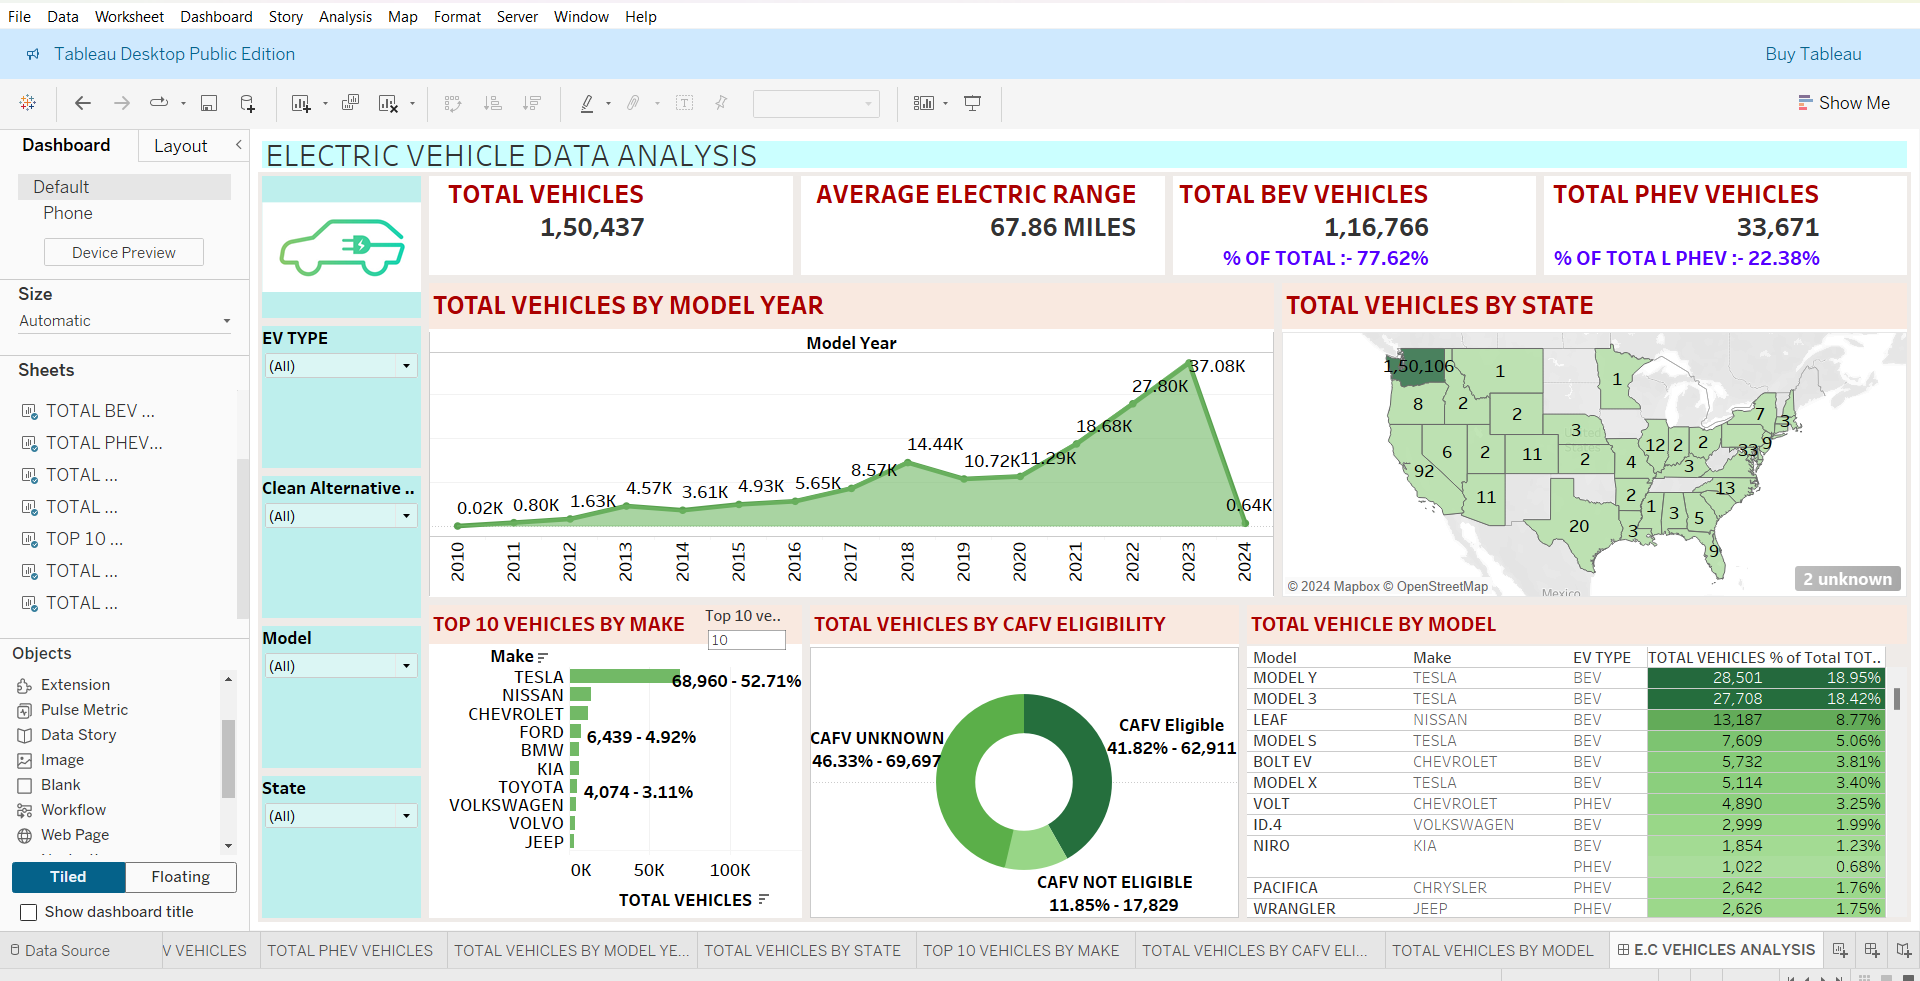

Layout of this report page (visuals, bound fields, positions):
{"tool":"tableau","page":{"name":"E.C VEHICLES ANALYSIS","canvas":[1000,1000],"units":"permille","ordinal":0},"visuals":[{"type":"title","box":[4.8,10,990.3,43.7]},{"type":"image","param":"Image/240_F_524935557_JjYRXDktED3P5YlSnkAqikICzypWonqY.jpg","box":[4.8,53.7,100.2,187.3]},{"type":"worksheet","title":"TOTAL NO OF VEHICLES","mark":"Automatic","box":[105,53.7,222.7,137.3]},{"type":"worksheet","title":"AVERAGE ELECTRIC RANGE","mark":"Automatic","box":[327.7,53.7,222.7,137.3]},{"type":"worksheet","title":"TOTAL BEV VEHICLES","mark":"Automatic","box":[550.4,53.7,222.7,137.3]},{"type":"worksheet","title":"TOTAL PHEV VEHICLES","mark":"Automatic","box":[773.1,53.7,222.1,137.3]},{"type":"worksheet","title":"TOTAL VEHICLES BY MODEL YEAR","mark":"Line","rows":["Calculation_857935750912520192","Calculation_857935750912520192"],"cols":["Model Year"],"box":[104.9,191.4,514.8,398.1]},{"type":"worksheet","title":"TOTAL VEHICLES BY STATE","mark":"Automatic","box":[619.7,191.4,375.5,398.1]},{"type":"filter","title":"TOP 10 VEHICLES BY MAKE","param":"[federated.0ajr7731lwx76l174dvfi1vqns8g].[none:Electric Vehicle Type:nk]","box":[4.8,241,100.2,187.3]},{"type":"filter","title":"TOP 10 VEHICLES BY MAKE","param":"[federated.0ajr7731lwx76l174dvfi1vqns8g].[none:Clean Alternative Fuel Vehicle (C","box":[4.8,428.2,100.2,187.3]},{"type":"worksheet","title":"TOP 10 VEHICLES BY MAKE","mark":"Automatic","rows":["Make"],"cols":["Calculation_857935750912520192"],"box":[104.9,589.5,229.9,400.6]},{"type":"worksheet","title":"TOTAL VEHICLES BY CAFV ELIGIBILITY","mark":"Pie","rows":["Calculation_75435316014813188","Calculation_75435316014813188"],"box":[334.8,589.5,251.1,400.6]},{"type":"worksheet","title":"TOTAL VEHICLES BY MODEL","mark":"Square","rows":["Model","Make","Electric Vehicle Type"],"box":[585.9,589.5,409.3,400.6]},{"type":"parameter","param":"[Parameters].[Parameter 1]","box":[272.6,594.3,50.3,71.2]},{"type":"filter","title":"TOP 10 VEHICLES BY MAKE","param":"[federated.0ajr7731lwx76l174dvfi1vqns8g].[none:Model:nk]","box":[4.8,615.5,100.2,187.3]},{"type":"filter","title":"TOP 10 VEHICLES BY MAKE","param":"[federated.0ajr7731lwx76l174dvfi1vqns8g].[none:State:nk]","box":[4.8,802.8,100.2,187.3]}]}

Visuals, with their boxes on the dashboard's canvas, which has no fixed pixel size, in thousandths of its width and height (x1, y1, x2, y2). These are canvas units, not pixel positions in the 1920x981 screenshot, which may show the page scaled, cropped or inside an application window:
title: 5,10,995,54
image: 5,54,105,241
"TOTAL NO OF VEHICLES" worksheet: 105,54,328,191
"AVERAGE ELECTRIC RANGE" worksheet: 328,54,550,191
"TOTAL BEV VEHICLES" worksheet: 550,54,773,191
"TOTAL PHEV VEHICLES" worksheet: 773,54,995,191
"TOTAL VEHICLES BY MODEL YEAR" worksheet (Line marks): 105,191,620,590
"TOTAL VEHICLES BY STATE" worksheet: 620,191,995,590
"TOP 10 VEHICLES BY MAKE" filter: 5,241,105,428
"TOP 10 VEHICLES BY MAKE" filter: 5,428,105,616
"TOP 10 VEHICLES BY MAKE" worksheet: 105,590,335,990
"TOTAL VEHICLES BY CAFV ELIGIBILITY" worksheet (Pie marks): 335,590,586,990
"TOTAL VEHICLES BY MODEL" worksheet (Square marks): 586,590,995,990
parameter: 273,594,323,666
"TOP 10 VEHICLES BY MAKE" filter: 5,616,105,803
"TOP 10 VEHICLES BY MAKE" filter: 5,803,105,990
